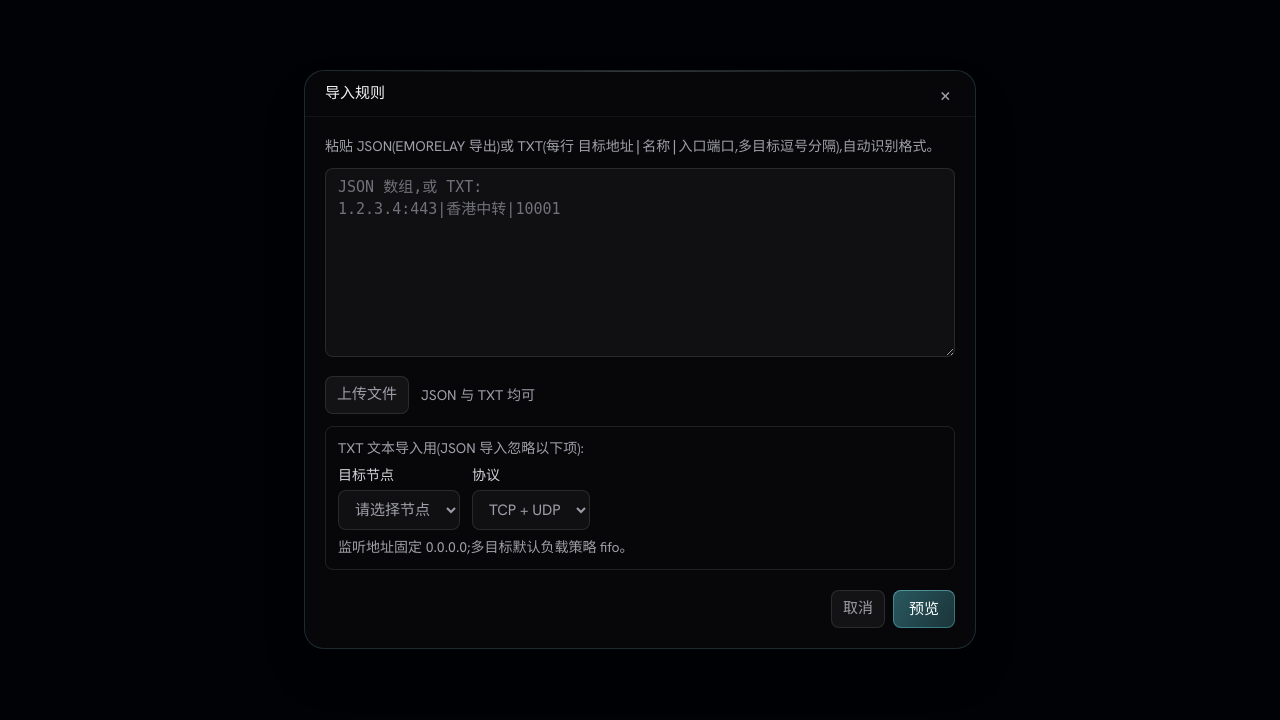
it: ImportModal › TXT 格式错误显示行级错误
This screenshot has width=1280, height=720.
Type "坏行没有分隔" into the text box named "导入内容" at {"x": 640, "y": 263}, box [325, 168, 955, 358]
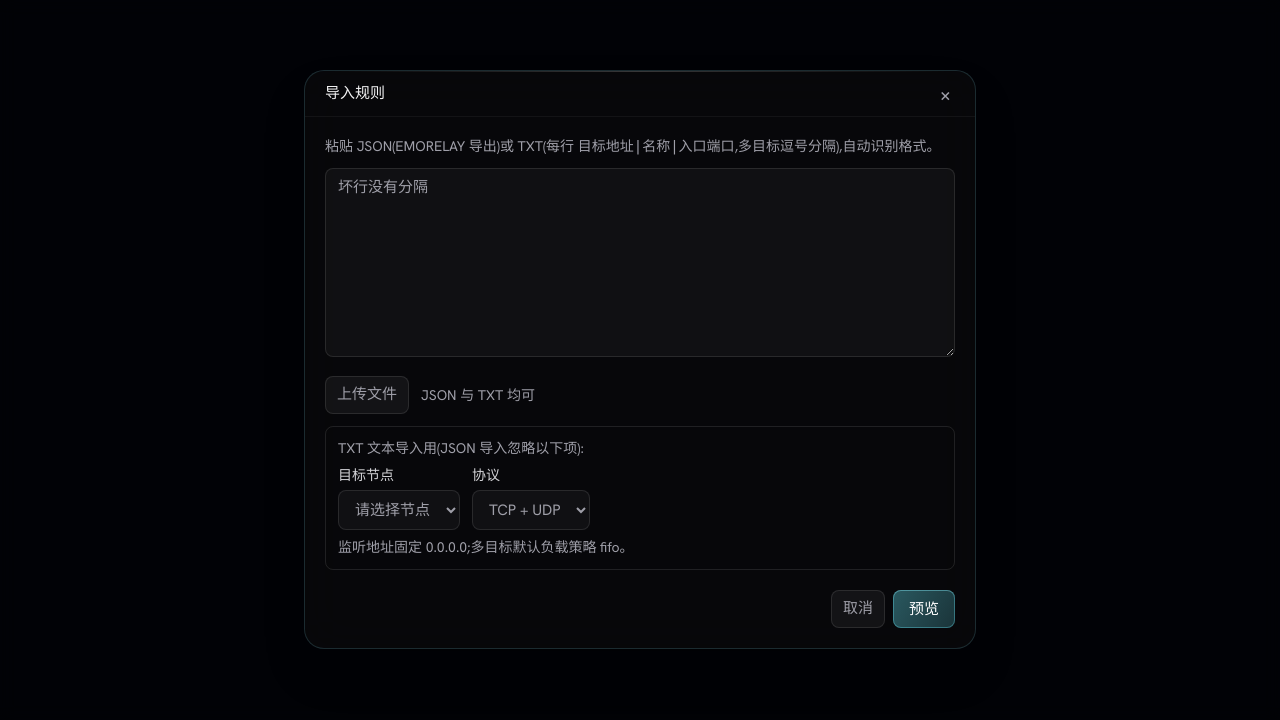
Select "hk-1" in the dropdown labelled "目标节点" at {"x": 399, "y": 510}, box [338, 490, 460, 530]
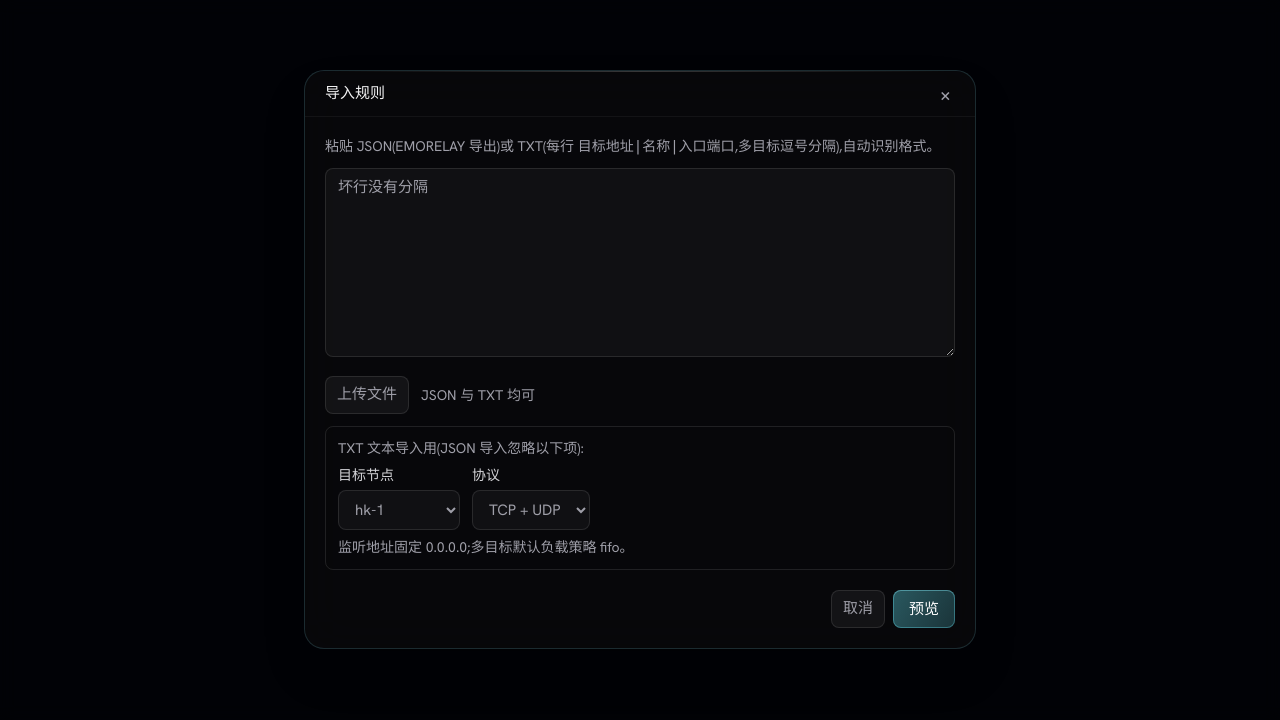
Click the button "预览" at {"x": 924, "y": 609}, box [893, 590, 955, 629]
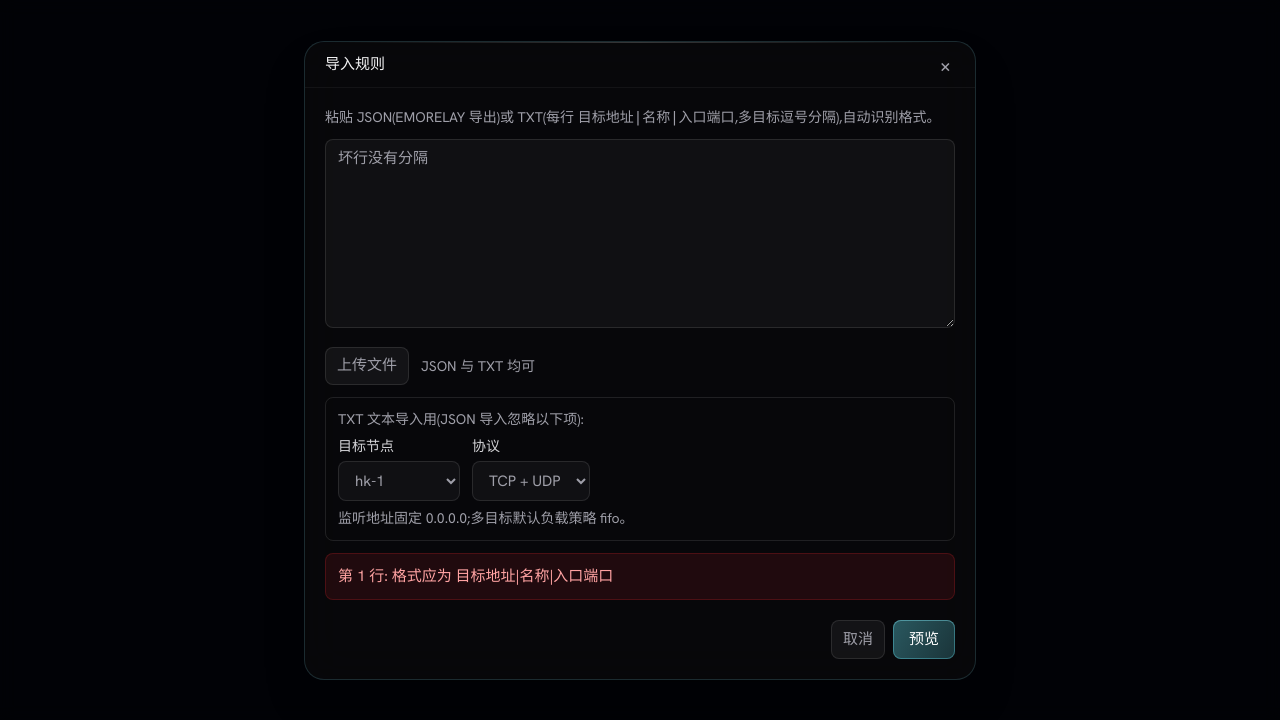
Check: the text "第 1 行: 格式应为 目标地址|名称|入口端口" is shown, box [325, 552, 955, 600]
